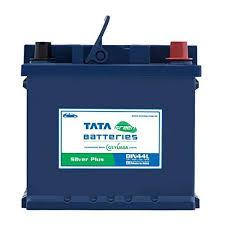battery: (7, 10, 217, 224)
